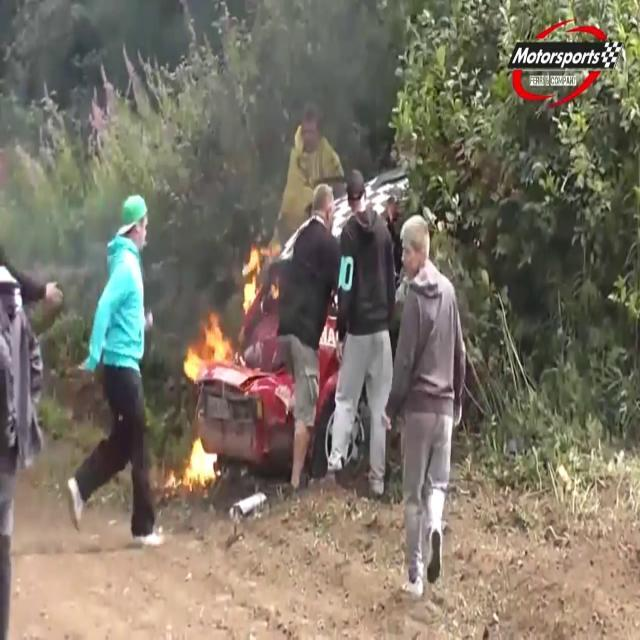Fire: (180, 310, 238, 382), (181, 431, 220, 494), (240, 240, 264, 312)
Smoke: (152, 112, 252, 320)
